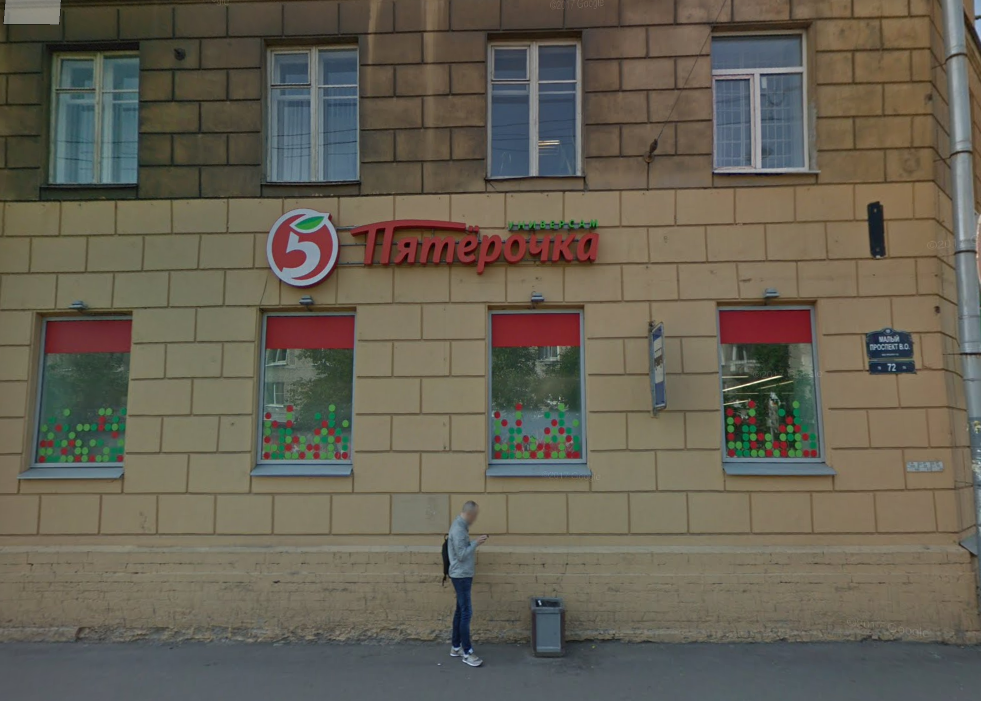signboard: (259, 197, 622, 289)
window: (30, 311, 133, 467), (259, 313, 354, 464), (491, 305, 583, 459), (725, 301, 813, 461), (711, 27, 807, 172), (486, 35, 582, 178), (271, 42, 362, 182), (48, 48, 134, 183)
